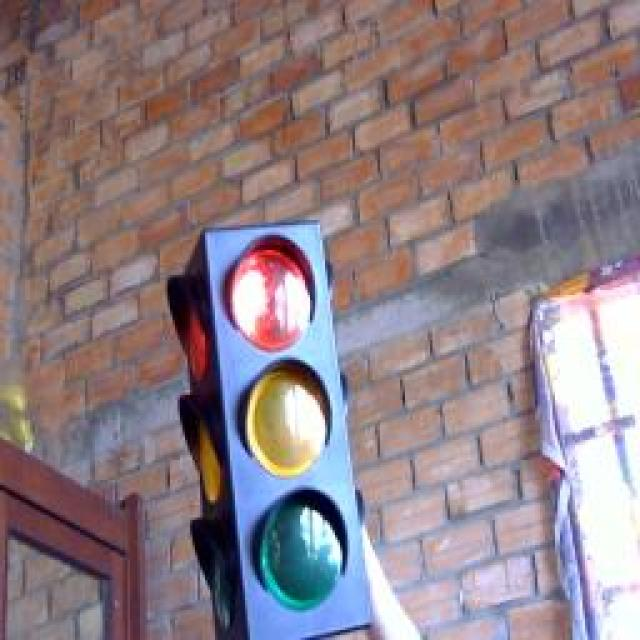-: (211, 230, 329, 357)
